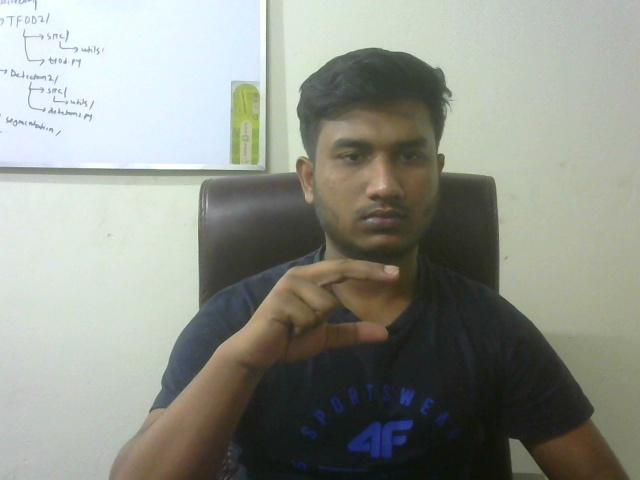No: (247, 238, 414, 379)
